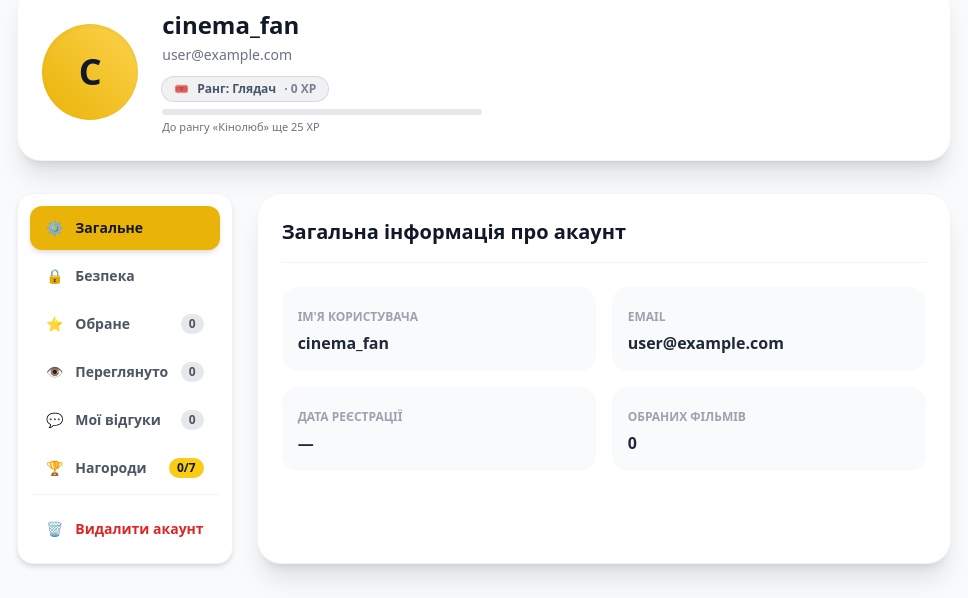
Test: UserProfile › shows an empty state when I have no reviews
The width and height of the screenshot is (968, 598).
Click the button "💬 Мої відгуки 0": (125, 420) [30,398,220,442]
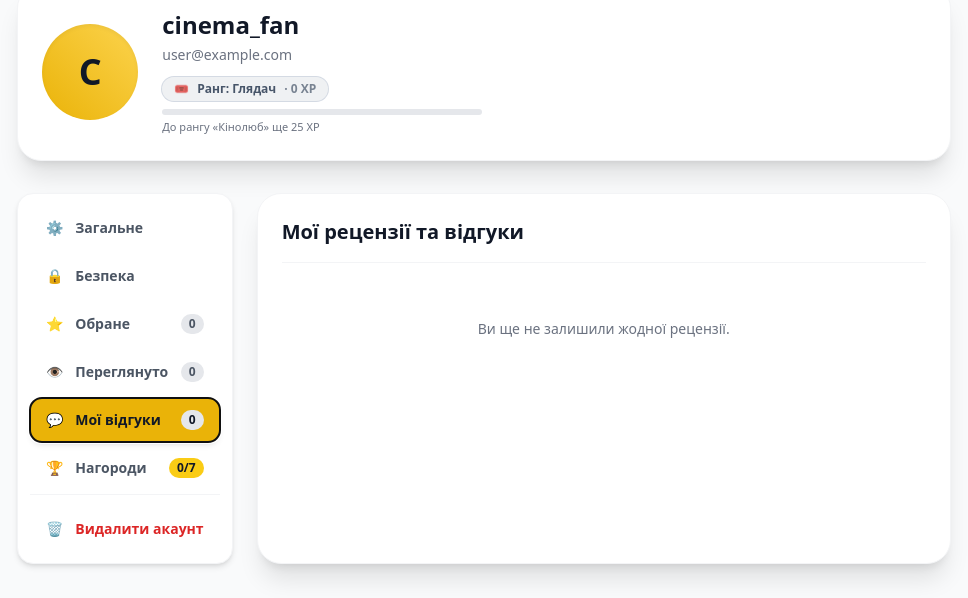
Expected: the text "Ви ще не залишили жодної рецензії." is shown, [478,318,730,338]
